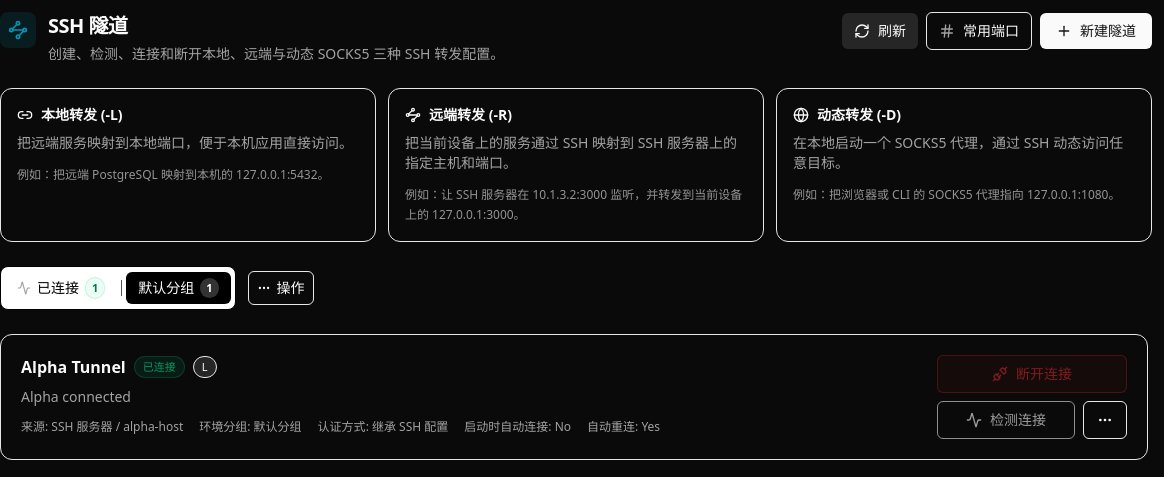
Test: SshTunnels › 分组断开部分失败时报告部分失败消息
What coordinates should you click on to do the following:
click the button "操作"
I would click on:
 (281, 288)
Its box is [248,271,314,305].
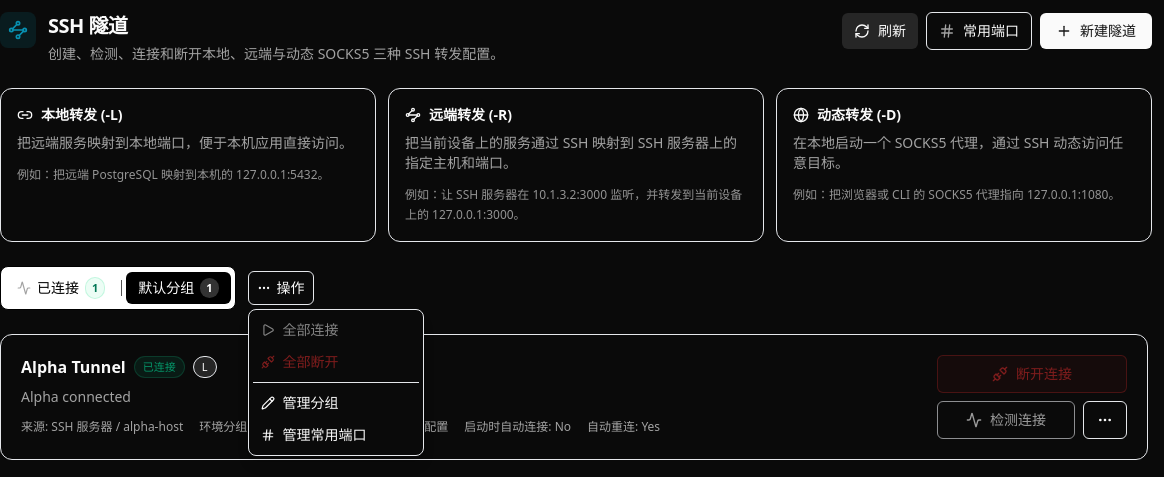
What coordinates should you click on to do the following:
click the menu item "全部断开"
I would click on:
 (336, 362)
Its box is [253,346,419,378].
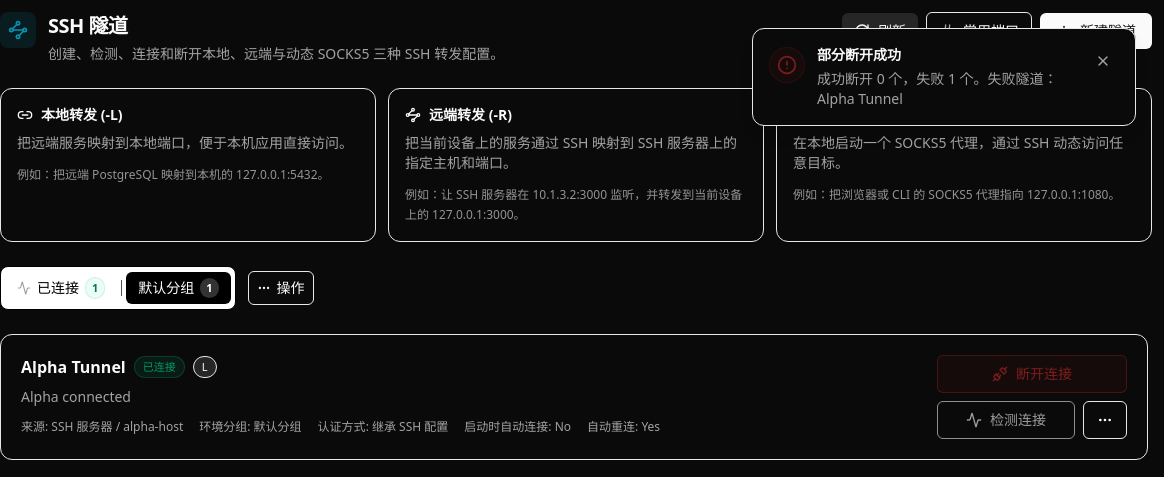
Expected: the text "部分断开成功" is shown, [817,45,901,64]
